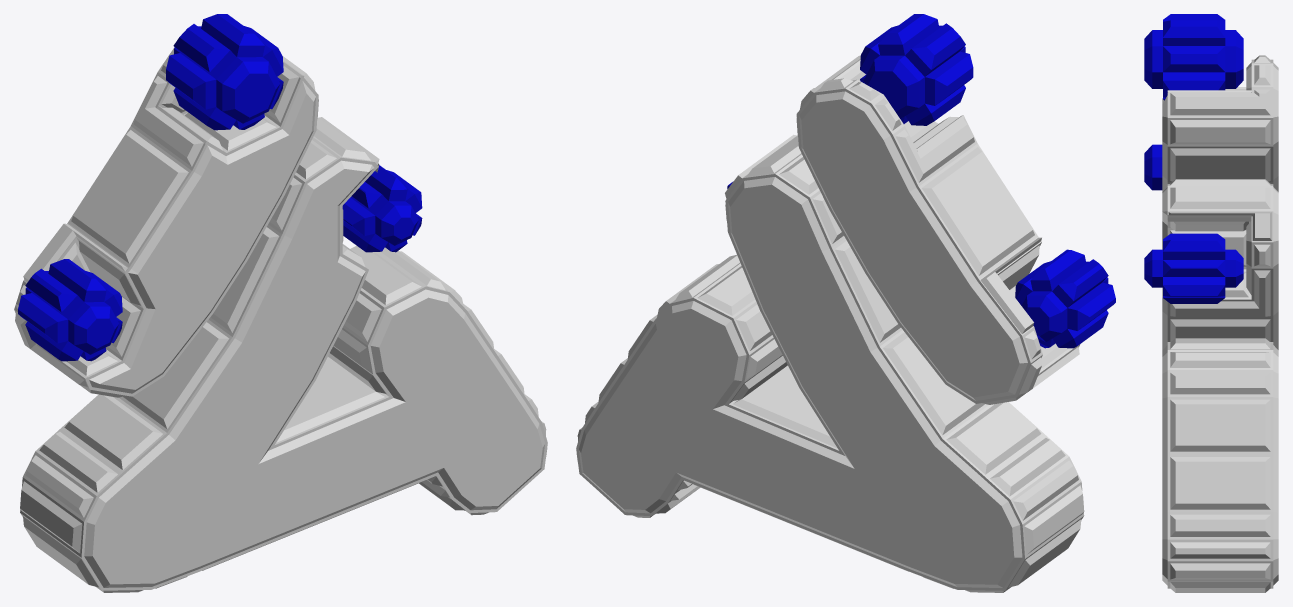
The model's file is Ch_China_么_01.fbx.
3 views of the same model, side by side, from view 1: azimuth 30°, elevation 25°; view 2: azimuth 150°, elevation 25°; view 3: azimuth 270°, elevation 25° (orthographic). The views are drawn at different scales.
Parts seen in each view (by area): view 1: sphere1; view 2: sphere1; view 3: sphere1.
Part boxes in pixels (bbox=[...]): sphere1: bbox=[14, 14, 547, 592]; sphere1: bbox=[576, 14, 1115, 592]; sphere1: bbox=[1144, 14, 1278, 592].
Size of the model in its own units: 0.95 by 0.9738 by 0.2541.
